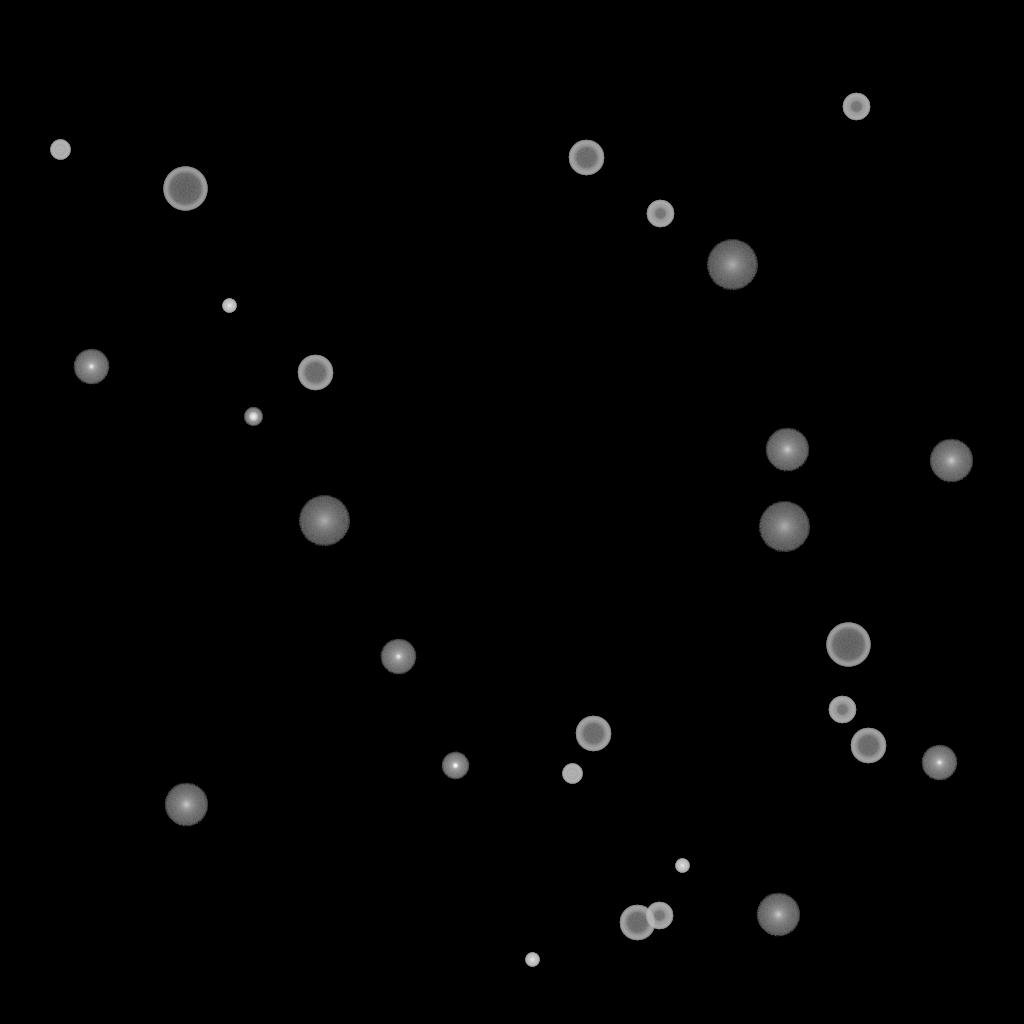depth:-10: (441, 752, 469, 780)
depth:-20: (244, 408, 262, 426)
depth:-30: (675, 859, 689, 873), (525, 953, 539, 967), (222, 299, 236, 313)
depth:-40: (50, 140, 70, 160), (562, 764, 582, 784)
depth:-50: (645, 902, 673, 930), (842, 93, 870, 121), (646, 200, 674, 228), (828, 696, 856, 724)
depth:-60: (619, 905, 655, 941), (297, 355, 333, 391), (850, 728, 886, 764), (575, 716, 611, 752), (568, 140, 604, 176)
depth:-70: (163, 167, 207, 211), (826, 623, 870, 667)
depth:0: (73, 349, 109, 385), (921, 745, 957, 781), (380, 639, 416, 675)
depth:10: (756, 893, 800, 937), (164, 783, 208, 827), (929, 439, 973, 483), (765, 428, 809, 472)
depth:20: (706, 240, 758, 290), (758, 502, 810, 552), (298, 496, 350, 546)
